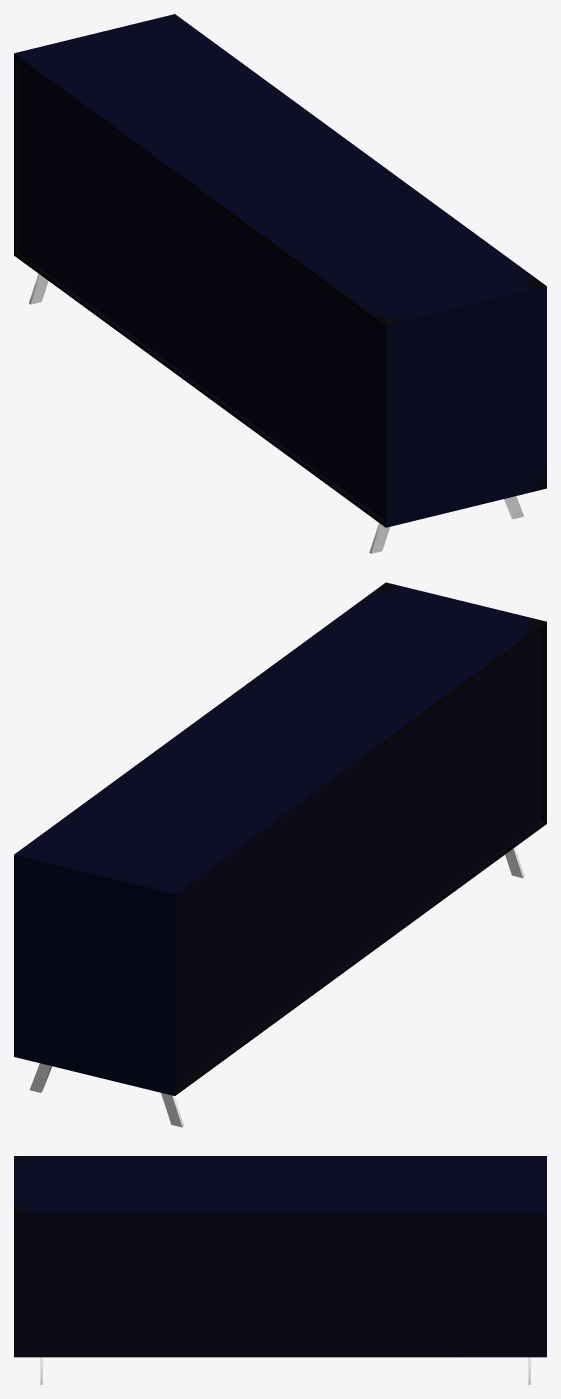
Rendered from blenderCabinet.glb.
3 renders of one model, top to bottom at view 1: azimuth 30°, elevation 25°; view 2: azimuth 150°, elevation 25°; view 3: azimuth 270°, elevation 25°, orthographic. The views are drawn at different scales.
Visible parts, largest first — view 1: Box, Back, Foot; view 2: Box, Back, Foot; view 3: Box, Front_Left, Front_Right, Front, Front_2, Front_, Back.
Part boxes in pixels (x1,y1,x2,y2): Box: [14, 14, 546, 527]; Back: [19, 60, 383, 519]; Foot: [29, 273, 523, 553]; Box: [14, 582, 546, 1095]; Back: [177, 629, 541, 1087]; Foot: [29, 847, 524, 1127]; Box: [14, 1156, 546, 1357]; Front_Left: [17, 1215, 174, 1354]; Front_Right: [387, 1215, 543, 1354]; Front: [175, 1242, 386, 1326]; Front_2: [174, 1325, 386, 1354]; Front_: [175, 1215, 386, 1241]; Back: [16, 1215, 544, 1302].
Bounding box in the file's own units: 0.5 × 0.72 × 2.
Materials: 7 (7 with a texture image).
